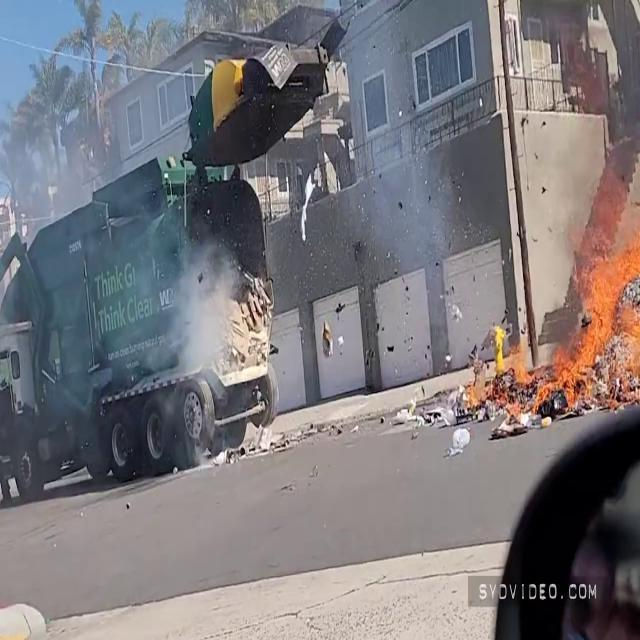Fire: (483, 193, 640, 422)
Smoke: (163, 210, 237, 388)
